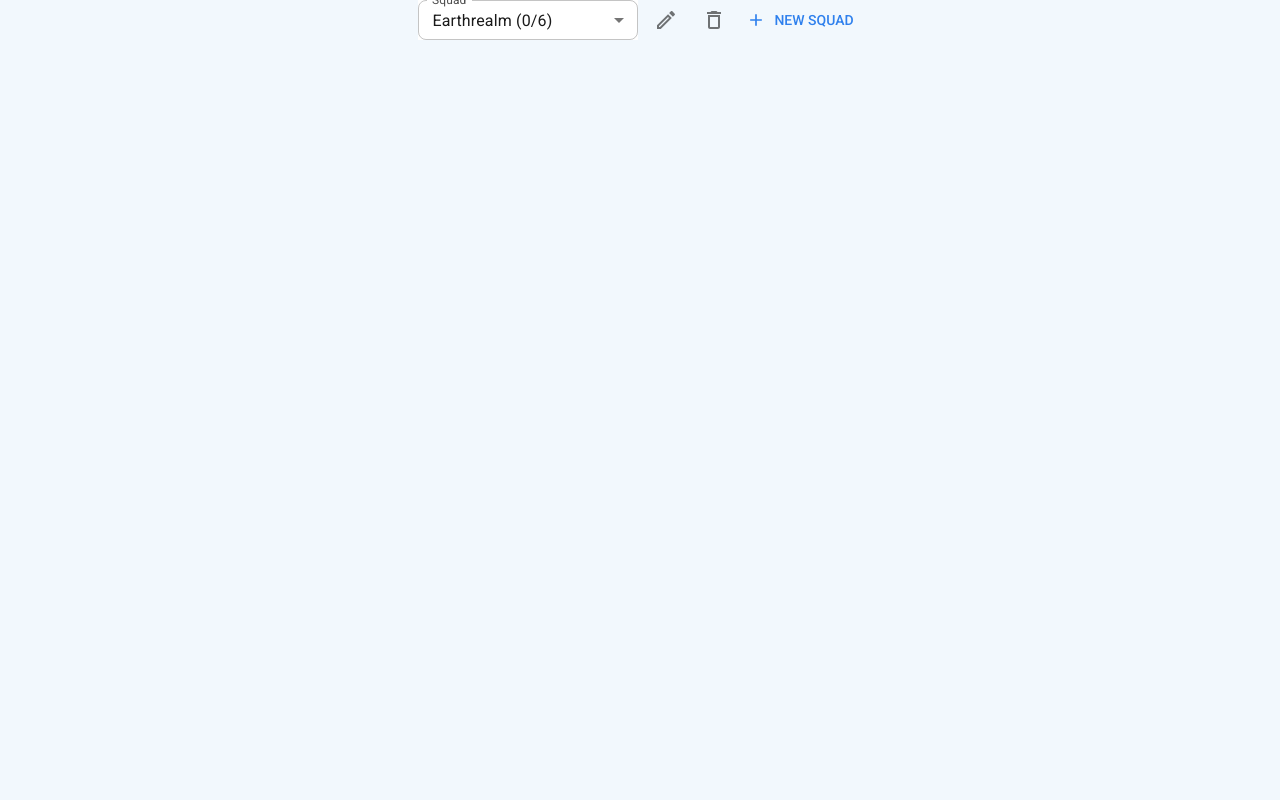
Scenario: SquadPicker › deletes the selected squad after confirming and selects another one
Click the button named "Delete squad" at (714, 20), box x1=694 y1=0 x2=734 y2=40
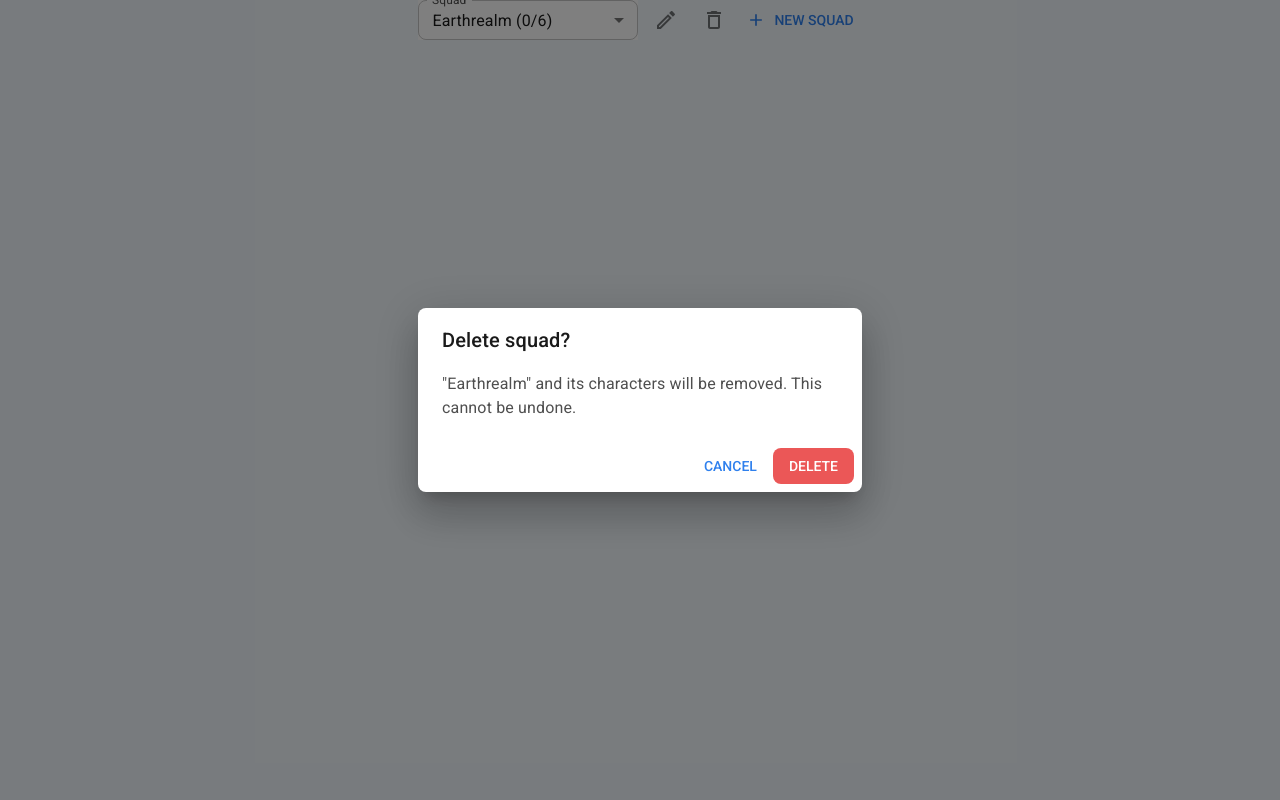
Click the button "Delete" at (813, 466), box x1=773 y1=448 x2=854 y2=484
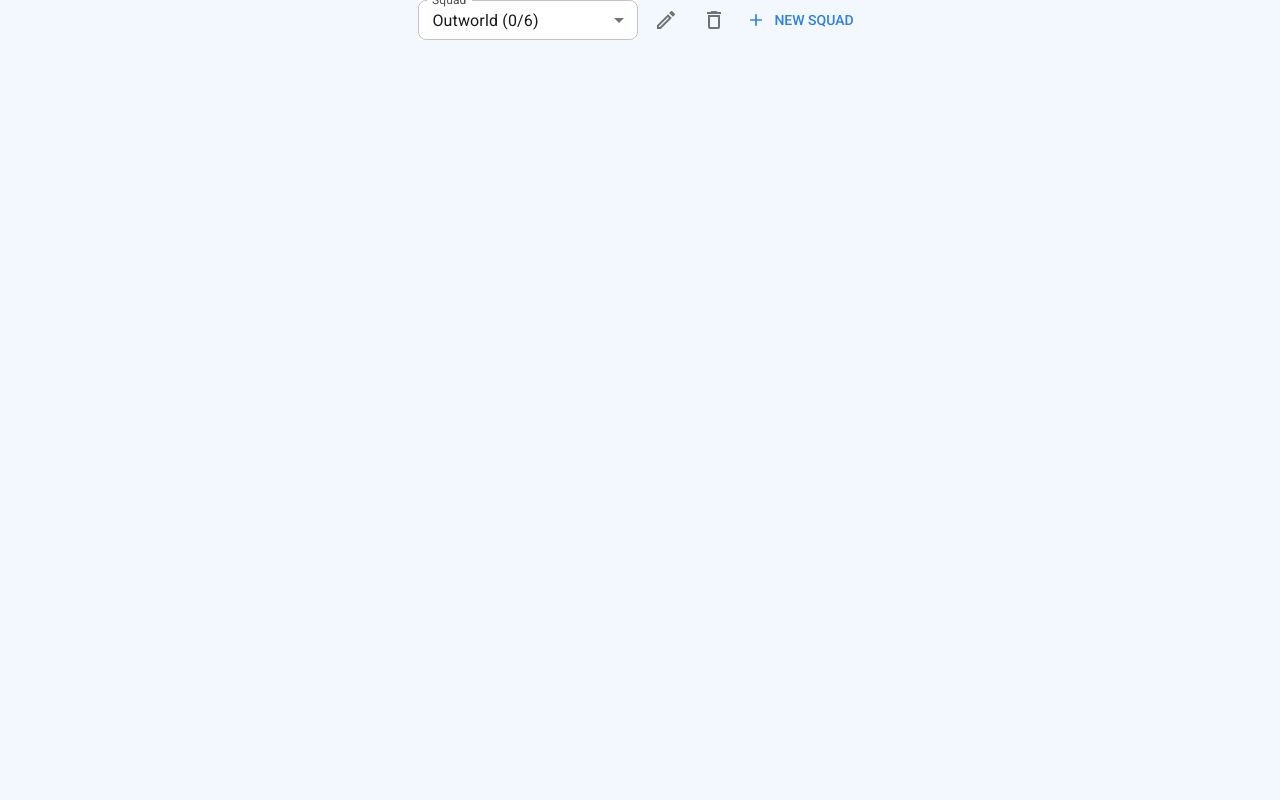
Expected: the dropdown "Outworld (0/6)" is shown, x1=432 y1=10 x2=539 y2=30
Expected: the dialog is gone
